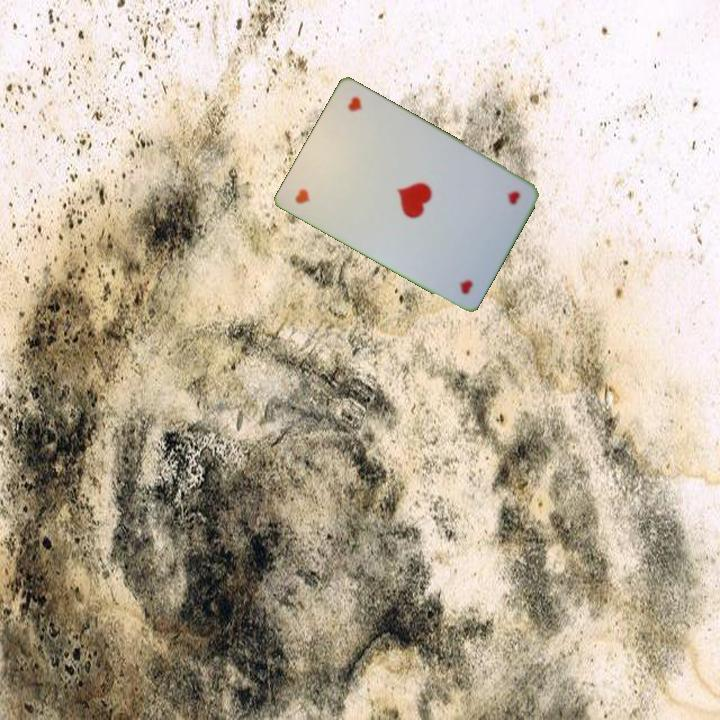h_a.png: (449, 164, 530, 248), (286, 142, 367, 226)
